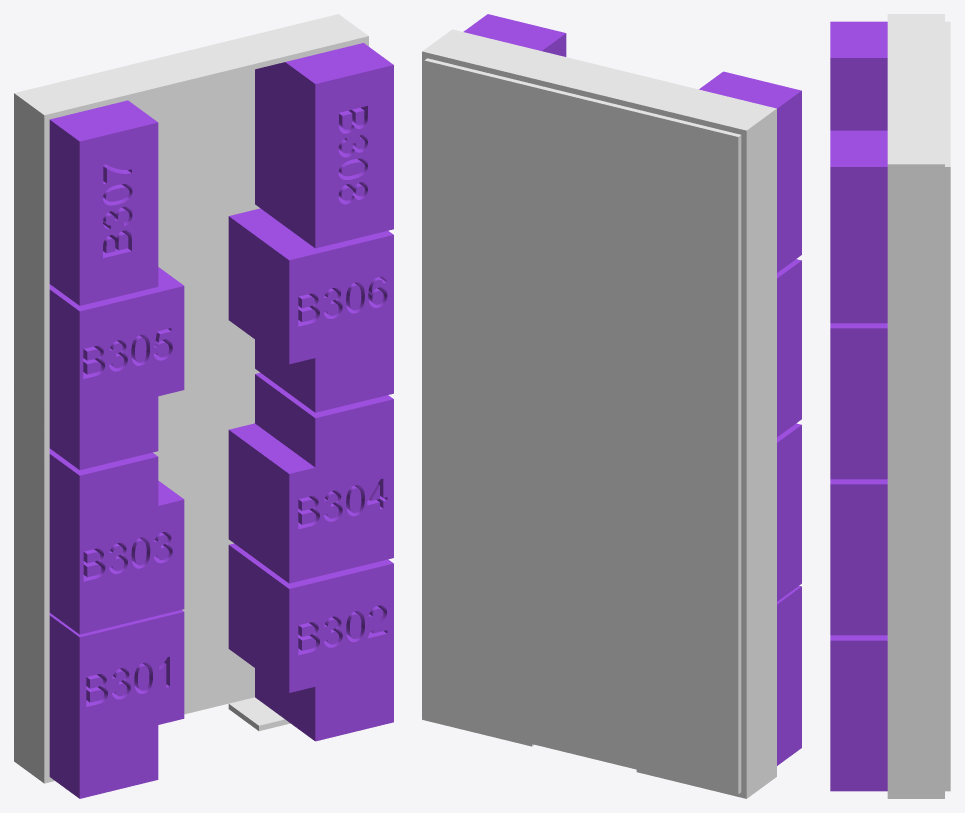
The model's file is Edificio B - Piso 3.obj.
The picture shows the model from 3 angles, left to right: view 1: azimuth 30°, elevation 25°; view 2: azimuth 150°, elevation 25°; view 3: azimuth 270°, elevation 25°; orthographic projection. The views are drawn at different scales.
Visible parts, largest first — view 1: Cuerpo 0, Cuerpo 9, Cuerpo 1, Cuerpo 4, Cuerpo 7, Cuerpo 5, Cuerpo 2, Cuerpo 3, Cuerpo 8, Cuerpo 6; view 2: Cuerpo 0, Cuerpo 9, Cuerpo 6, Cuerpo 8, Cuerpo 2, Cuerpo 3, Cuerpo 7; view 3: Cuerpo 9, Cuerpo 7, Cuerpo 1, Cuerpo 4, Cuerpo 5, Cuerpo 6, Cuerpo 0.
Part boxes in pixels (x1=…): Cuerpo 0: x1=128, y1=69, x2=259, y2=714; Cuerpo 9: x1=14, y1=14, x2=368, y2=783; Cuerpo 1: x1=228, y1=372, x2=393, y2=583; Cuerpo 4: x1=228, y1=208, x2=393, y2=412; Cuerpo 7: x1=255, y1=43, x2=393, y2=248; Cuerpo 5: x1=228, y1=543, x2=393, y2=741; Cuerpo 2: x1=49, y1=448, x2=184, y2=634; Cuerpo 3: x1=49, y1=267, x2=184, y2=469; Cuerpo 8: x1=49, y1=610, x2=184, y2=798; Cuerpo 6: x1=49, y1=100, x2=158, y2=305; Cuerpo 0: x1=424, y1=58, x2=741, y2=794; Cuerpo 9: x1=422, y1=29, x2=776, y2=798; Cuerpo 6: x1=699, y1=71, x2=801, y2=272; Cuerpo 8: x1=777, y1=585, x2=801, y2=765; Cuerpo 2: x1=777, y1=423, x2=801, y2=601; Cuerpo 3: x1=777, y1=259, x2=801, y2=436; Cuerpo 7: x1=463, y1=14, x2=566, y2=56; Cuerpo 9: x1=887, y1=14, x2=944, y2=798; Cuerpo 7: x1=830, y1=130, x2=887, y2=323; Cuerpo 1: x1=830, y1=479, x2=887, y2=635; Cuerpo 4: x1=830, y1=323, x2=887, y2=479; Cuerpo 5: x1=830, y1=635, x2=887, y2=791; Cuerpo 6: x1=830, y1=21, x2=887, y2=130; Cuerpo 0: x1=945, y1=21, x2=950, y2=791.
Size of the model in its own units: 6.2 by 12.2 by 2.1.
